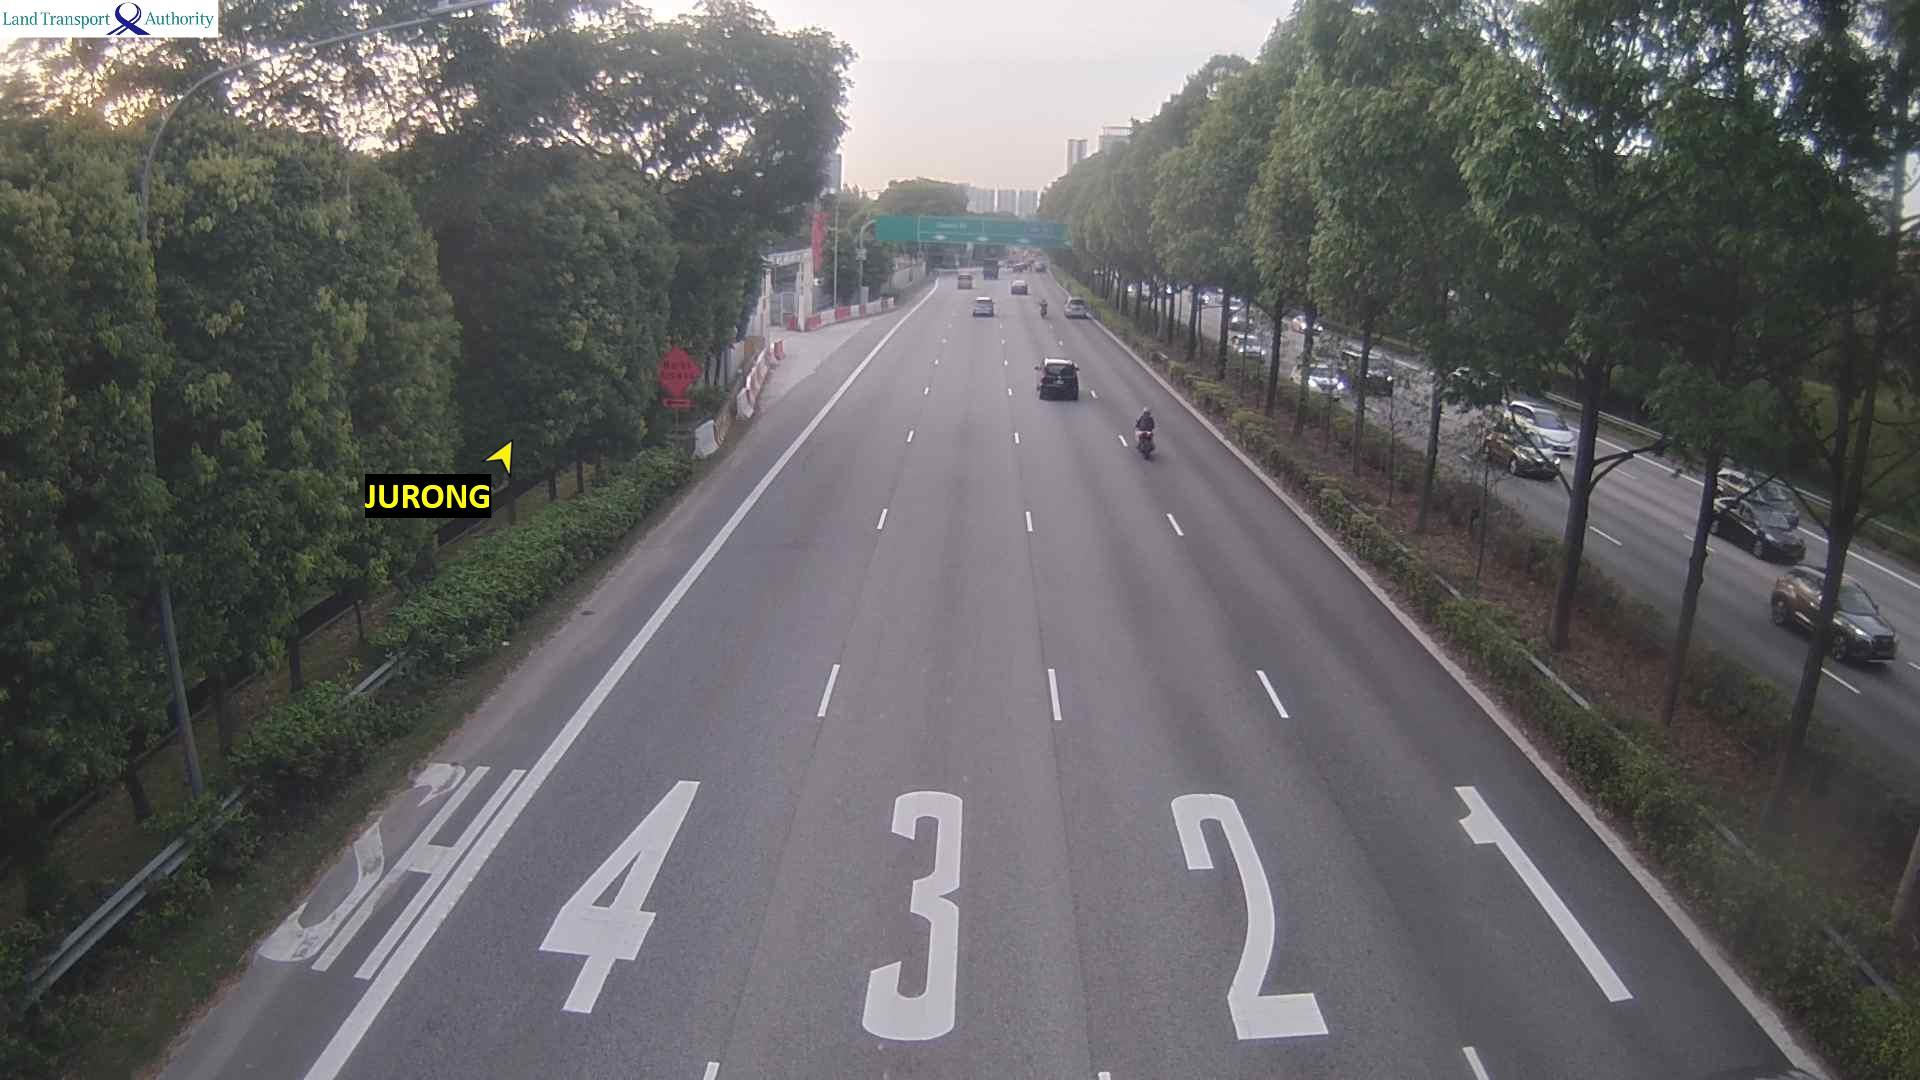incoming: (1825, 578, 1906, 668), (1742, 500, 1815, 570), (1502, 435, 1567, 482), (1525, 405, 1580, 454), (1301, 365, 1345, 397), (1236, 338, 1267, 365)
